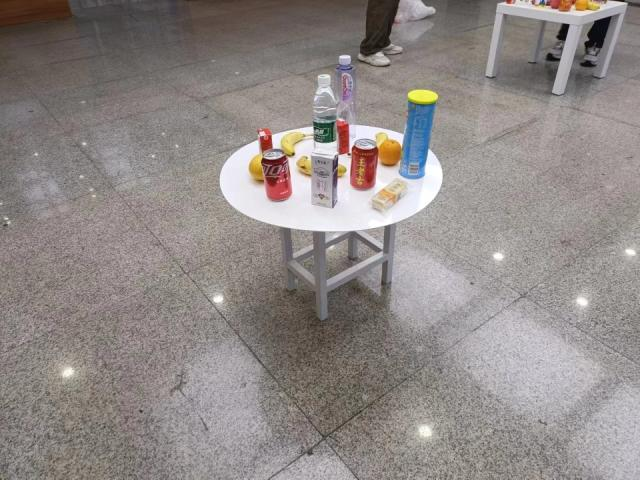Canned_drinks: (260, 147, 295, 201), (350, 138, 378, 191)
bottle: (311, 73, 337, 153), (335, 55, 358, 137)
cylinder: (399, 89, 438, 179)
drink_box: (309, 147, 340, 210), (336, 118, 352, 155), (256, 128, 274, 151)
